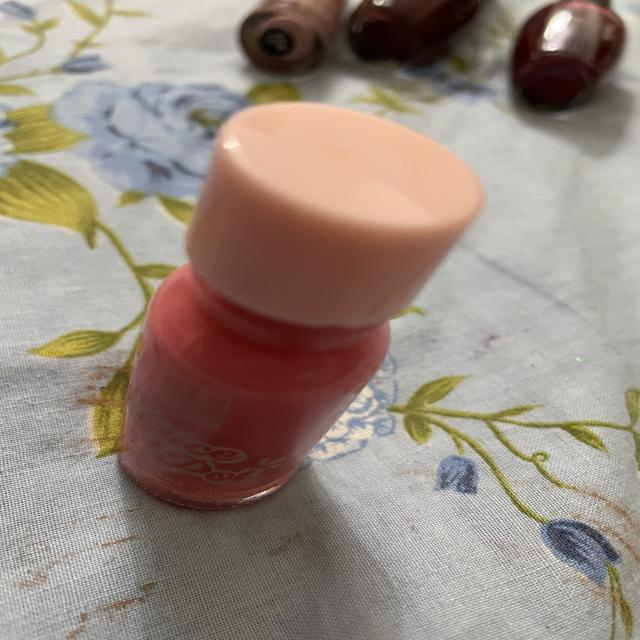Tint: (84, 97, 513, 517)
